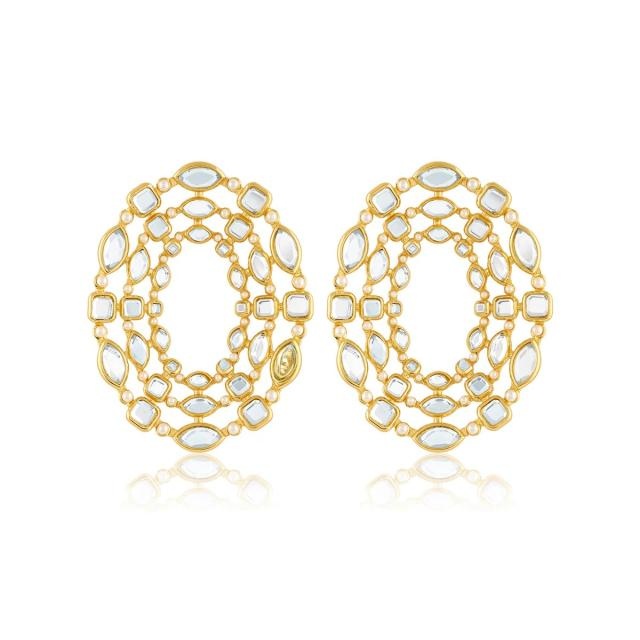missing gem: (272, 341, 297, 383)
